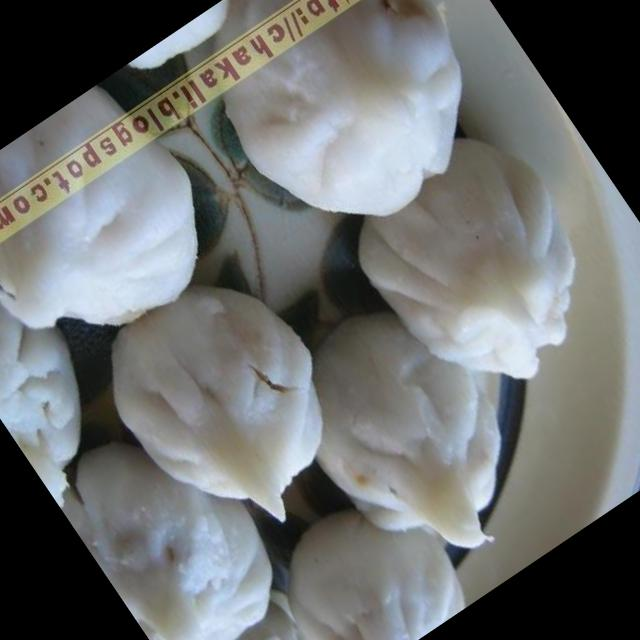modak: (0, 103, 505, 640)
